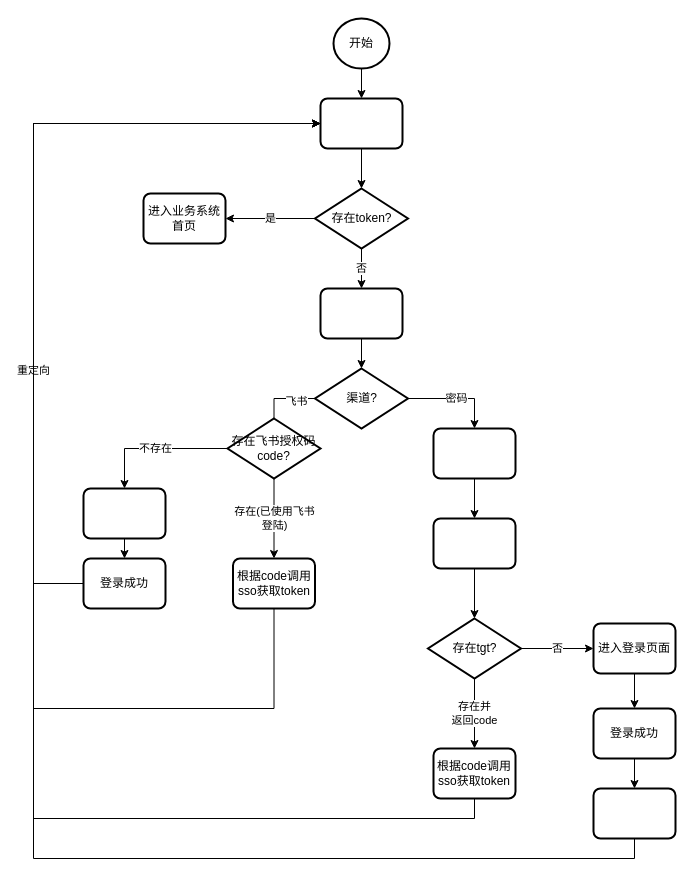
The diagram is 694 pixels wide and 884 high, and some of its shapes have lost their labels. Here are the shapes that lost their labels. From the top down, the centre of each, then its label:
At (x=361, y=123): "访问业务系统首页".
At (x=361, y=313): "准备跳转登录页面".
At (x=474, y=453): "重定向至单点系统".
At (x=124, y=513): "重定向至飞书单点登录页面".
At (x=474, y=543): "调用preLogin 携带tgt".
At (x=634, y=813): "调用token，获取token".
